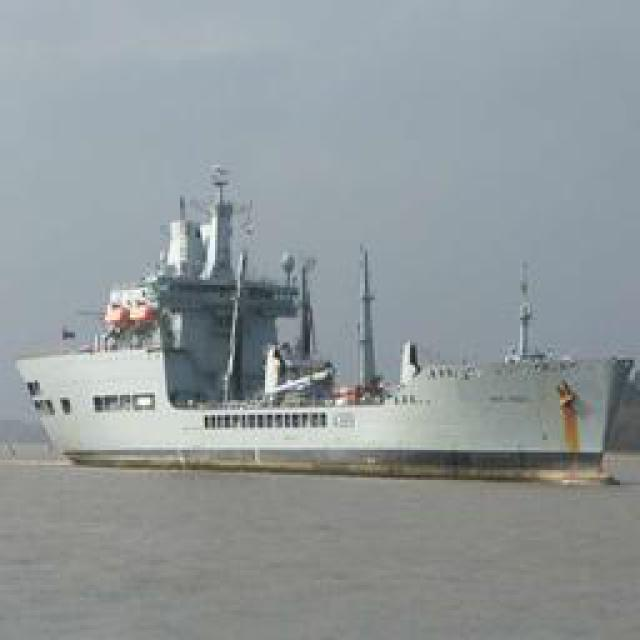Ship: (24, 171, 619, 466)
